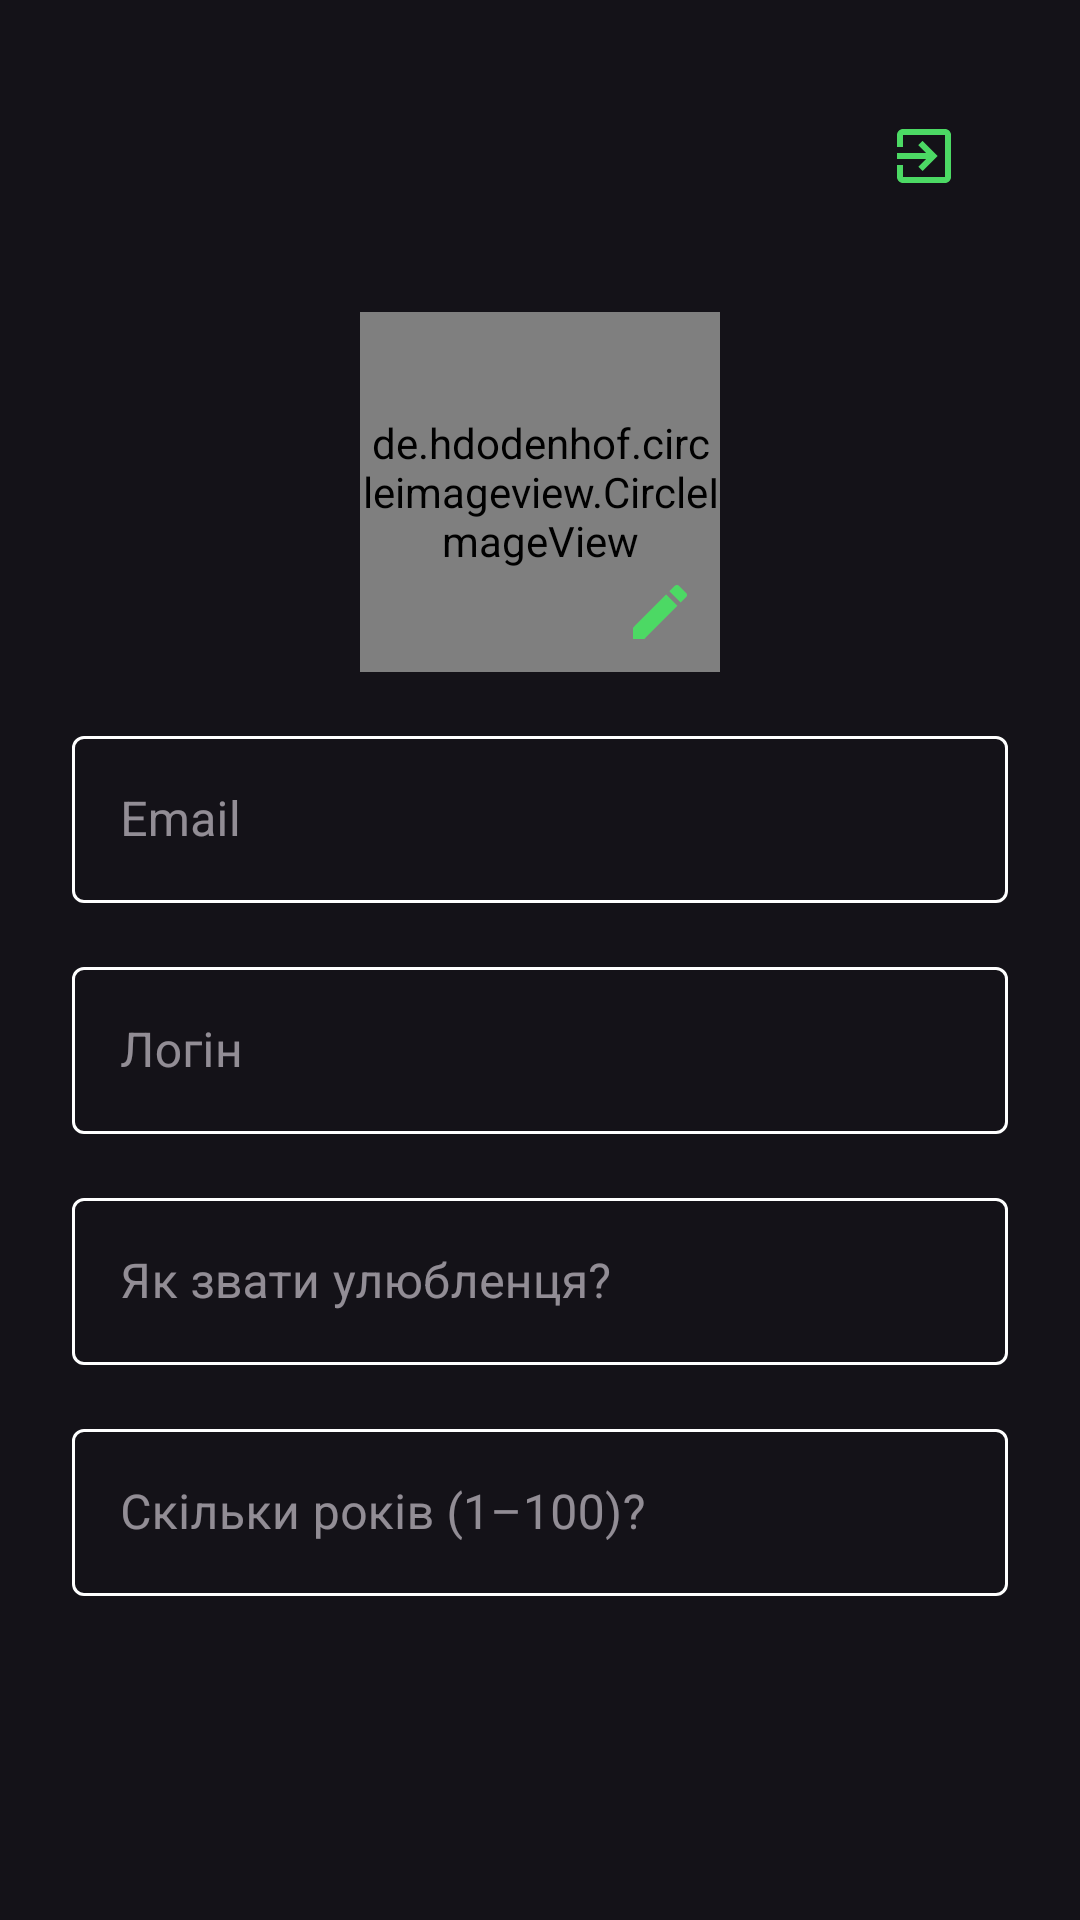

Locate icon controls on the screen. Image size 1080px×1920px, boxes as (x1, y1, x2, y2).
exit: (897, 129, 951, 183)
